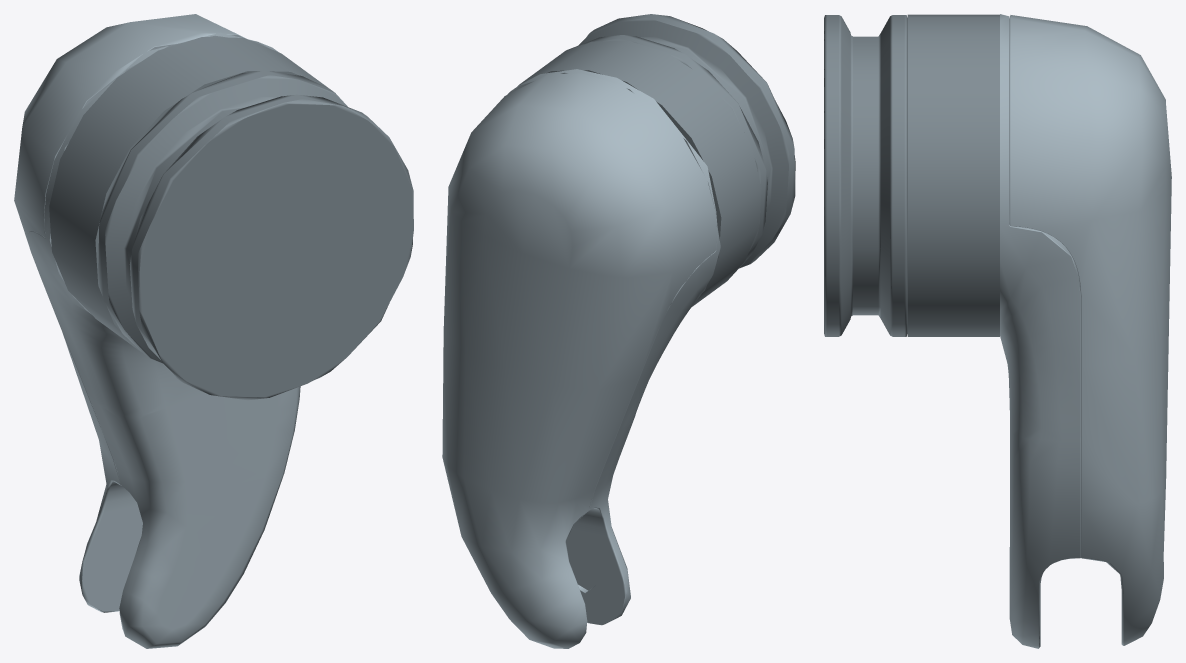
File: hip_mirror.dae
The picture shows the model from 3 angles, left to right: view 1: azimuth 30°, elevation 25°; view 2: azimuth 150°, elevation 25°; view 3: azimuth 270°, elevation 25°; orthographic projection. The views are drawn at different scales.
Parts seen in each view (by area): view 1: hip_mirror; view 2: hip_mirror; view 3: hip_mirror.
Part boxes in pixels (left/top/right/bottom): hip_mirror: left=14, top=14, right=413, bottom=648; hip_mirror: left=442, top=14, right=795, bottom=648; hip_mirror: left=824, top=14, right=1171, bottom=648.
Bounding box in the file's own units: 0.0837 × 0.0902 × 0.1767.
